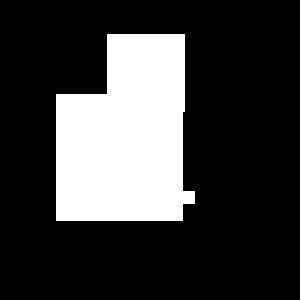circle: (56, 94, 183, 221), (107, 34, 185, 112), (182, 191, 195, 204)
rectangle: (135, 116, 143, 124)
